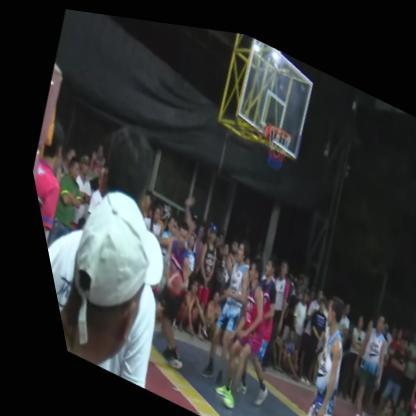basketball: (145, 259, 181, 300)
rim: (241, 98, 303, 174)
